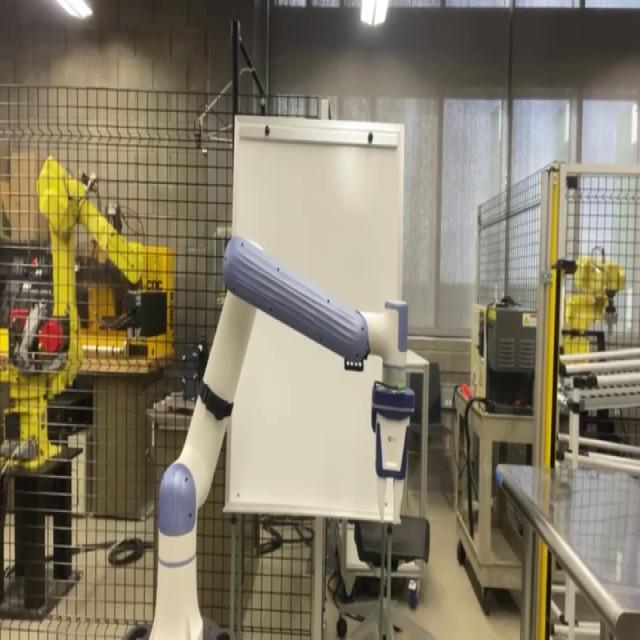robot: (122, 232, 416, 639)
